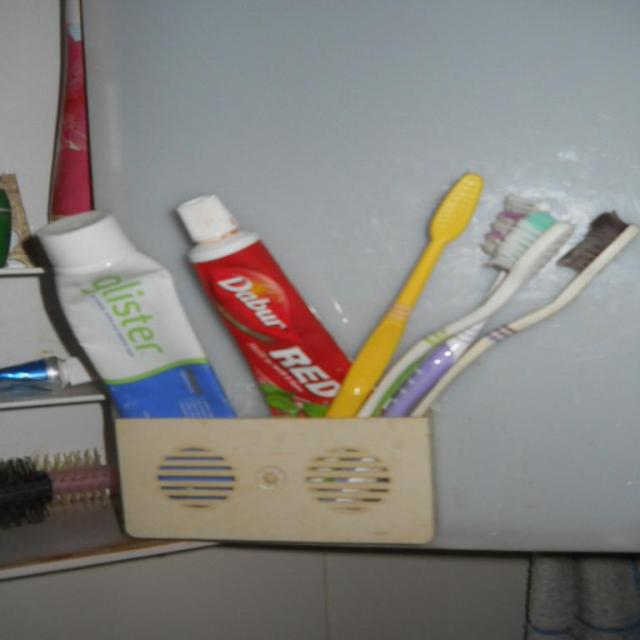Toothpaste: (32, 191, 329, 416)
